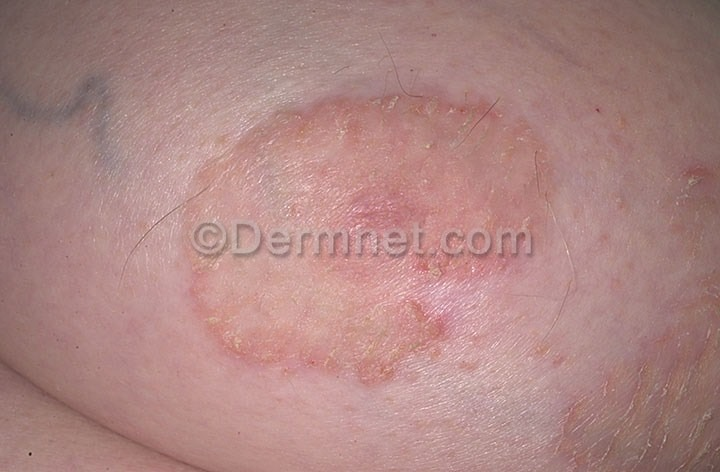Eczema: (172, 83, 571, 401)
